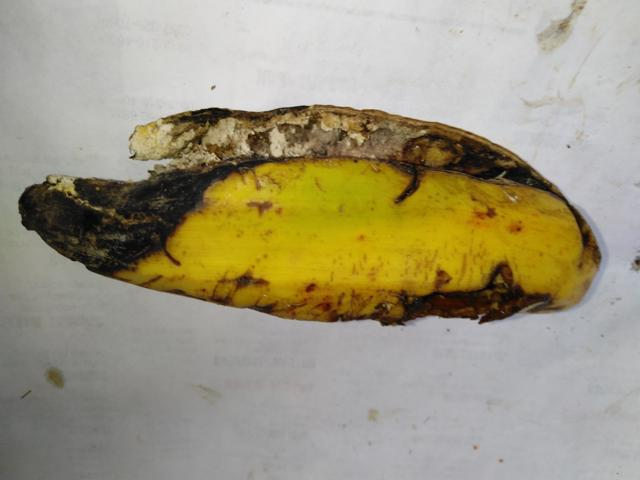rotten: (7, 66, 260, 289), (215, 80, 580, 220), (226, 256, 567, 367)
